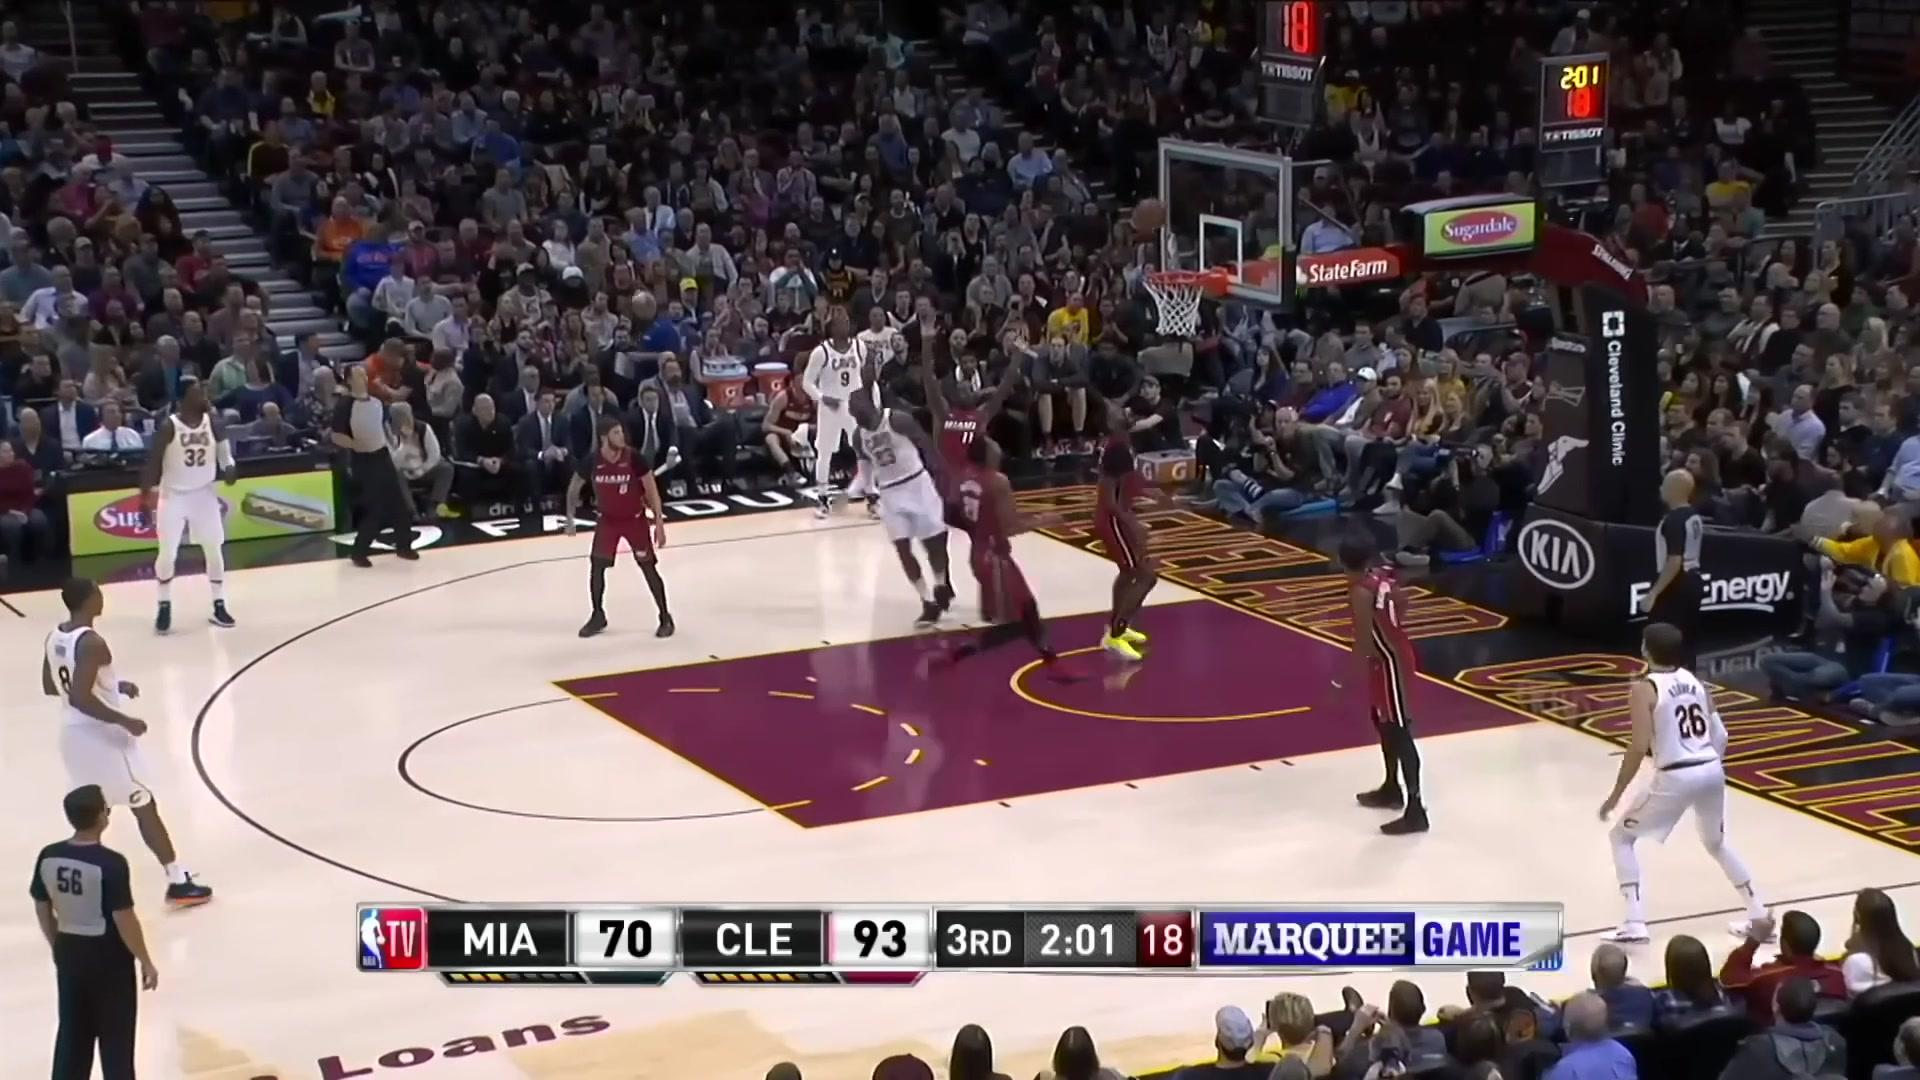foul: (833, 353, 1065, 684)
